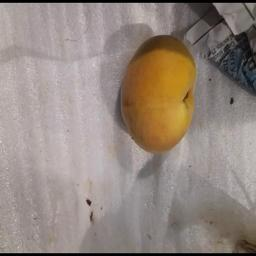Peach Semifresh: (108, 27, 208, 162)
